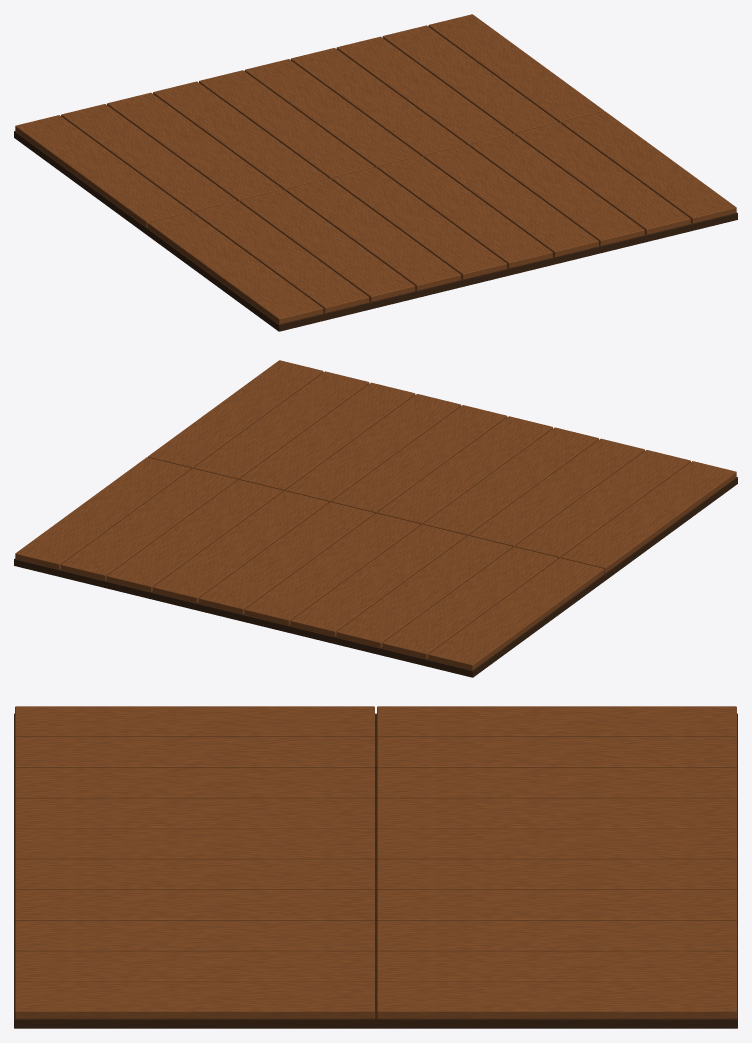
The model's file is floor-panel.glb.
3 views of the same model, one above another, from view 1: azimuth 30°, elevation 25°; view 2: azimuth 150°, elevation 25°; view 3: azimuth 270°, elevation 25° (orthographic). The views are drawn at different scales.
Parts seen in each view (by area): view 1: floor-panel; view 2: floor-panel; view 3: floor-panel.
Part boxes in pixels (x1,y1,x2,y2): floor-panel: (14,14,737,331); floor-panel: (14,360,737,677); floor-panel: (14,706,737,1028).
Size of the model in its own units: 2 by 0.052 by 2.
Materials: 2 (2 with a texture image).
